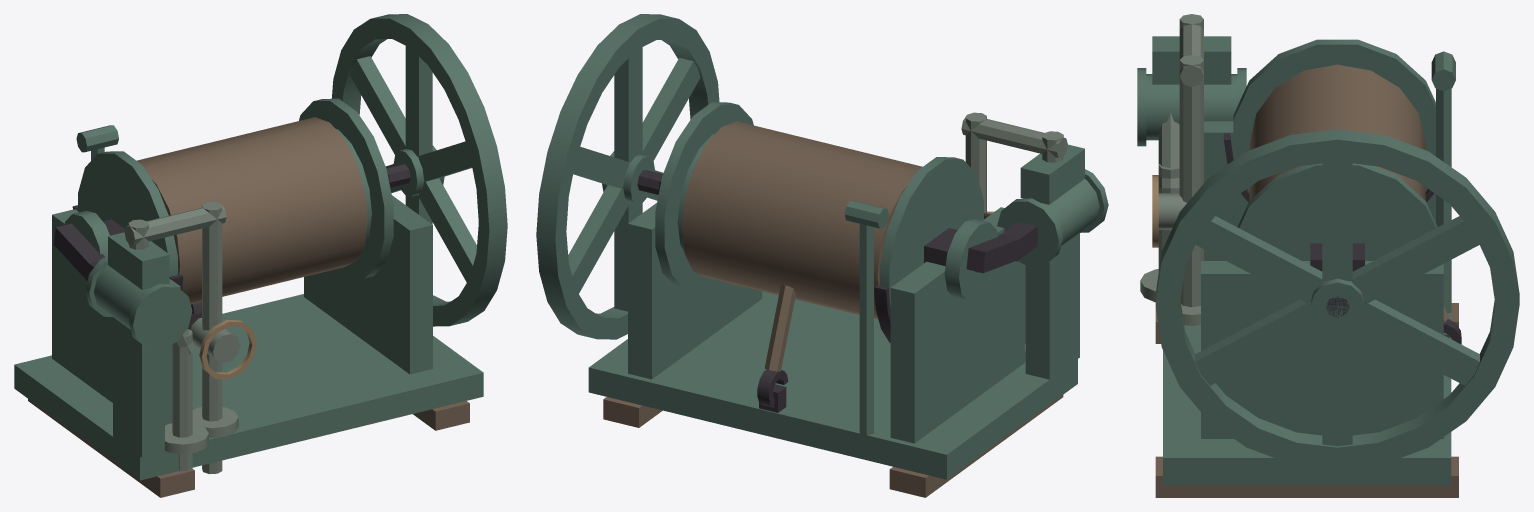
File: prop_steam_winch_v1.glb
3 views of the same model, side by side, from view 1: azimuth 30°, elevation 25°; view 2: azimuth 150°, elevation 25°; view 3: azimuth 270°, elevation 25° (orthographic). The views are drawn at different scales.
Visible parts, largest first — view 1: SteamWinch; view 2: SteamWinch; view 3: SteamWinch.
Part boxes in pixels (x1=…): SteamWinch: x1=14, y1=14, x2=507, y2=497; SteamWinch: x1=536, y1=14, x2=1108, y2=497; SteamWinch: x1=1137, y1=14, x2=1519, y2=497.
Size of what is drawn, in the model's own units: 1.69 by 1.38 by 1.26.
